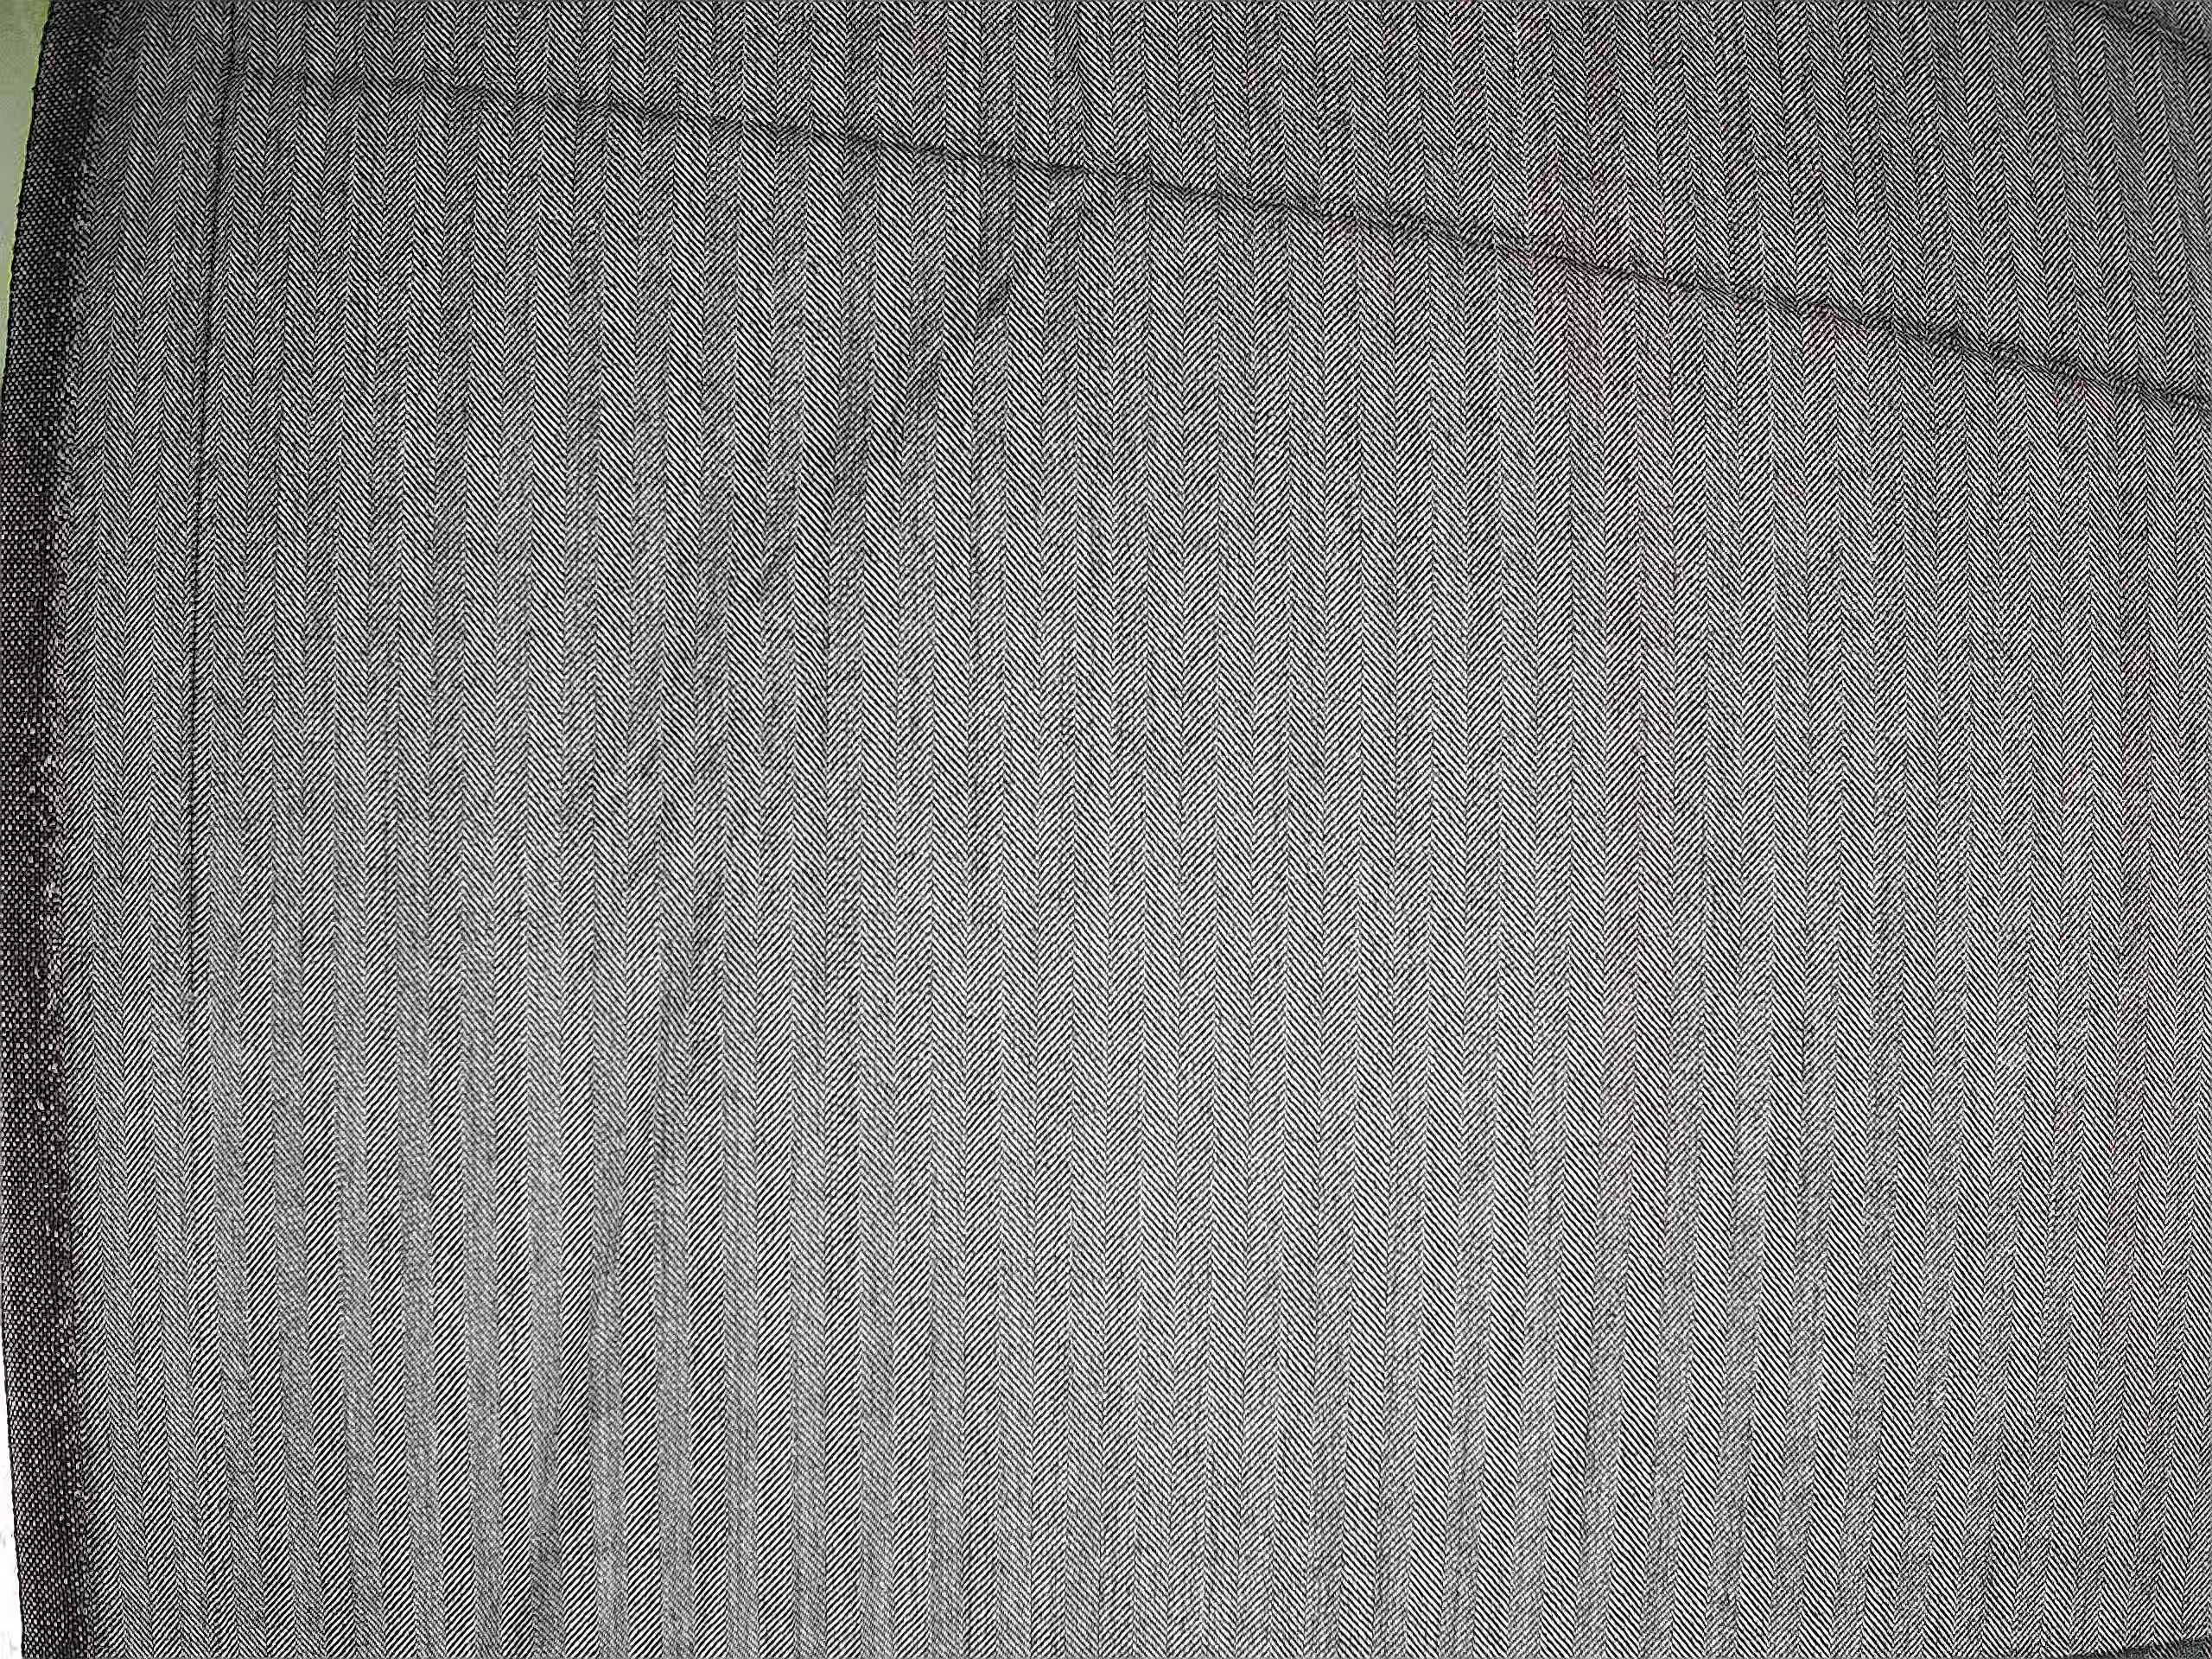hanging-warp: (176, 5, 256, 1061)
